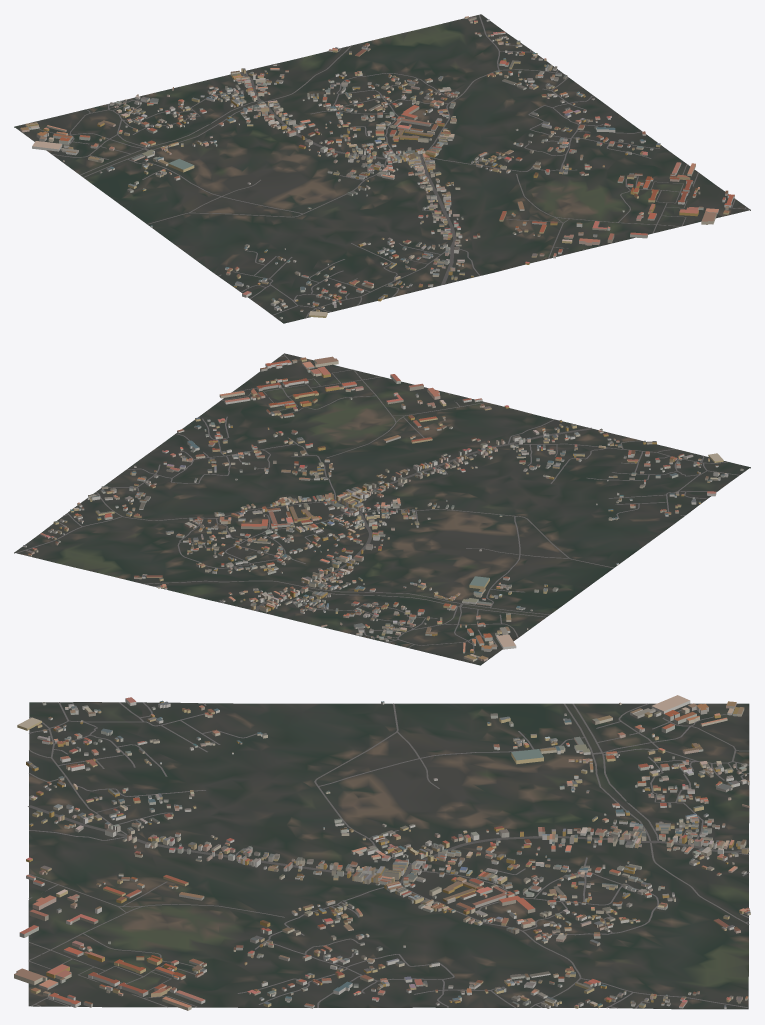
3 views of the same model, one above another, from view 1: azimuth 30°, elevation 25°; view 2: azimuth 150°, elevation 25°; view 3: azimuth 270°, elevation 25° (orthographic). The views are drawn at different scales.
Parts seen in each view (by area): view 1: ground, buildings, roads; view 2: ground, buildings, roads; view 3: ground, buildings, roads.
Part boxes in pixels (x1,y1,x2,y2): ground: [14, 14, 750, 323]; buildings: [20, 16, 734, 319]; roads: [39, 14, 749, 318]; ground: [14, 353, 750, 665]; buildings: [23, 356, 743, 661]; roads: [16, 354, 739, 654]; ground: [28, 702, 749, 1009]; buildings: [14, 695, 750, 1010]; roads: [28, 702, 749, 1008].
Size of the model in its own units: 1439 by 21.51 by 1435.
